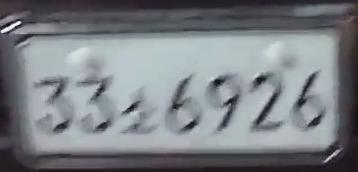2: (246, 66, 289, 135)
3: (31, 71, 77, 136), (77, 72, 117, 135)
6: (289, 69, 331, 137), (162, 69, 204, 135)
9: (204, 67, 245, 135)
소: (119, 85, 163, 138)
